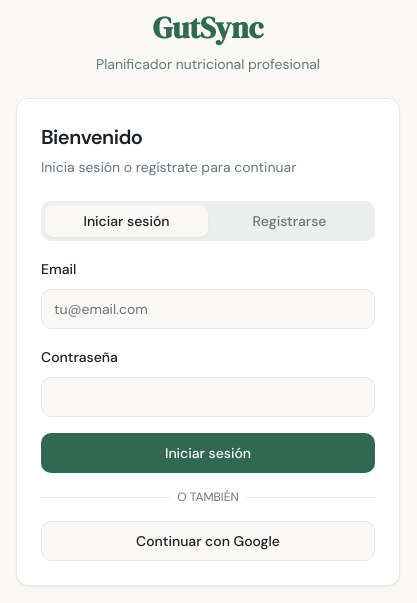
Scenario: Auth Component › handles email/password signup
The width and height of the screenshot is (417, 603).
Later steps or results of the test are not shown.
Step 1. Press the mouse on the tab "Registrarse" → [290, 221], box [208,205,371,237]
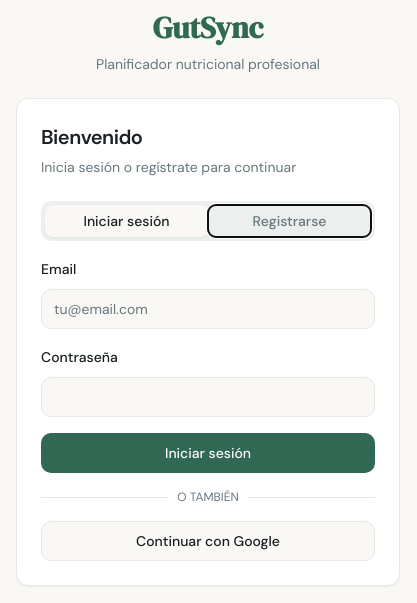
Step 2. Click the tab "Registrarse" → [290, 221], box [208,205,371,237]
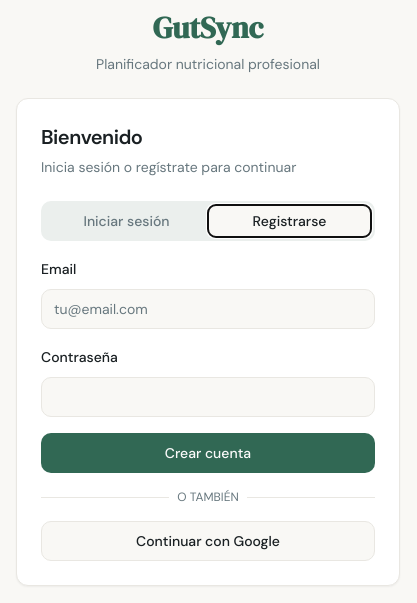
Expected: the button "Crear cuenta" is shown, [41,433,375,473]
